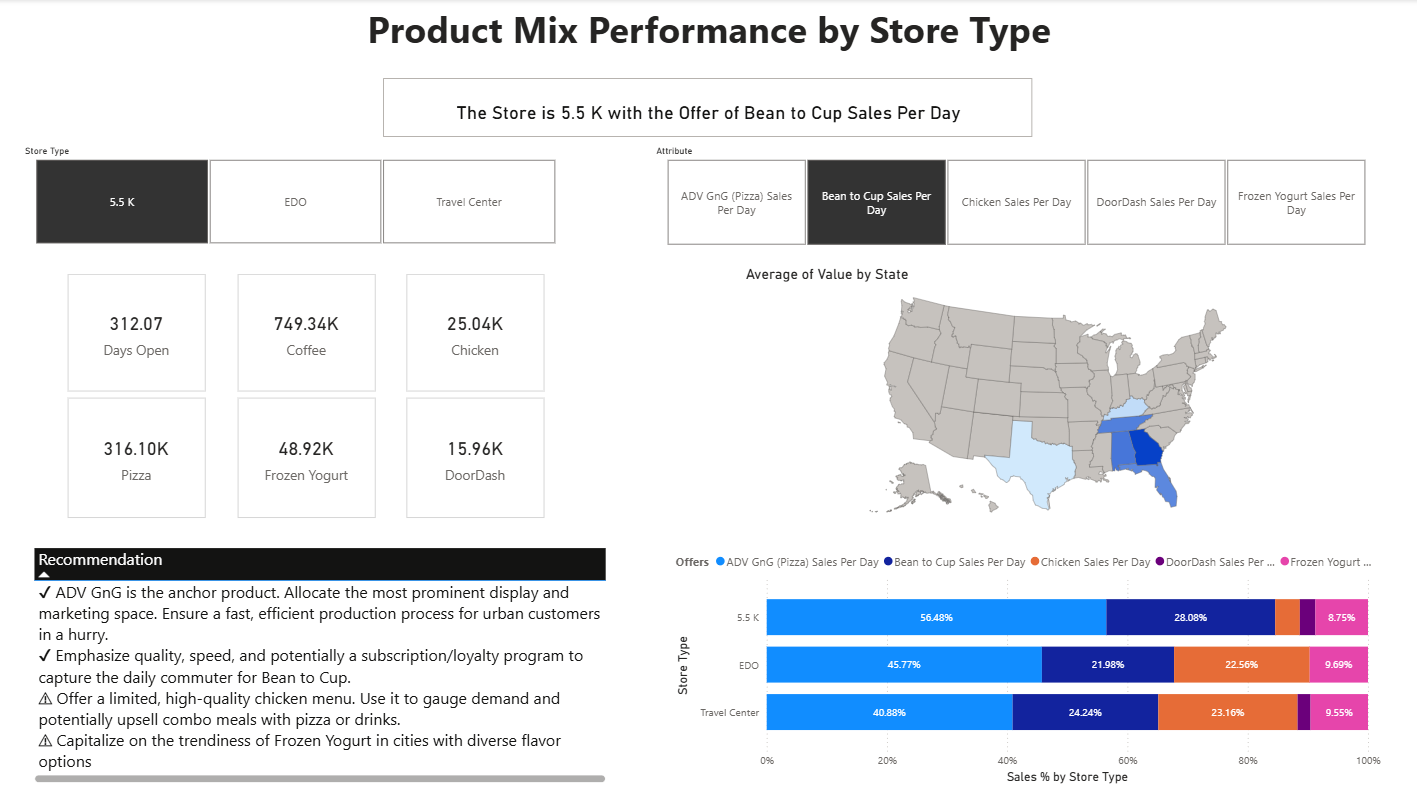

What the dashboard file says about the page in this screenshot:
{"tool":"powerbi","page":{"name":"Page 1","canvas":[1664,936],"ordinal":0},"visuals":[{"type":"shapeMap","fields":{"Category":["Melted.State"],"Value":["Avg(Melted.Value)"]},"box":[870.5,312.2,718.9,308.6],"z":0},{"type":"slicer","fields":{"Values":["Offer Connector.Attribute"]},"box":[756.8,166.6,868.4,127.8],"z":1000},{"type":"hundredPercentStackedBarChart","fields":{"Category":["Table 1 (Unpivot).Store Type"],"Y":["Sum(Table 1 (Unpivot).Percentage)"],"Series":["Table 1 (Unpivot).Offers"]},"box":[788.5,638.6,836.6,285.4],"z":2000},{"type":"card","fields":{"Values":["Avg(Melted Full.Value)"]},"box":[80.3,467.4,161.3,140.9],"z":3000,"group":"g1"},{"type":"card","fields":{"Values":["Avg(Melted Full.Value)"]},"box":[80.9,322.2,161.3,137.4],"z":3000},{"type":"slicer","fields":{"Values":["Store Connector.Store Type"]},"box":[17.8,166.6,658.2,126.1],"z":4000},{"type":"card","fields":{"Values":["Avg(Melted Full.Value)"]},"box":[278.8,467.4,161.3,140.9],"z":5000,"group":"g1"},{"type":"tableEx","fields":{"Values":["Recommendations.Recommendation"]},"box":[35.6,638.8,680.8,284.6],"z":5000},{"type":"card","fields":{"Values":["Avg(Melted Full.Value)"]},"box":[477.4,467.4,161.3,140.9],"z":6000,"group":"g1"},{"type":"card","fields":{"Values":["Avg(Melted Full.Value)"]},"box":[279.5,322.2,161.3,137.4],"z":6000},{"type":"card","fields":{"Values":["Avg(Melted Full.Value)"]},"box":[478,322.2,161.3,137.4],"z":7000},{"type":"group","id":"g1","title":"Group 1","box":[80.3,467.4,558.4,140.9],"z":8000},{"type":"cardVisual","fields":{"Data":["Clean Table.Dynamic Title"]},"box":[444.7,87.3,771.4,79.2],"z":9000},{"type":"textbox","box":[283.8,0,1096.4,72.8],"z":10000}]}

Visuals, with their boxes in screenshot pixels (x1, y1, x2, y2), scaled from the page's 1664x936 canvas onto the 1417x795 screenshot:
shapeMap - Melted.State x Avg(Melted.Value): [741, 265, 1353, 527]
slicer - Offer Connector.Attribute: [644, 142, 1384, 250]
hundredPercentStackedBarChart - Table 1 (Unpivot).Store Type x Sum(Table 1 (Unpivot).Percentage): [671, 542, 1384, 785]
card - Avg(Melted Full.Value): [68, 397, 206, 517]
card - Avg(Melted Full.Value): [69, 274, 206, 390]
slicer - Store Connector.Store Type: [15, 142, 576, 249]
card - Avg(Melted Full.Value): [237, 397, 375, 517]
tableEx - Recommendations.Recommendation: [30, 543, 610, 784]
card - Avg(Melted Full.Value): [407, 397, 544, 517]
card - Avg(Melted Full.Value): [238, 274, 375, 390]
card - Avg(Melted Full.Value): [407, 274, 544, 390]
"Group 1" group: [68, 397, 544, 517]
cardVisual - Clean Table.Dynamic Title: [379, 74, 1036, 141]
textbox: [242, 0, 1175, 62]
